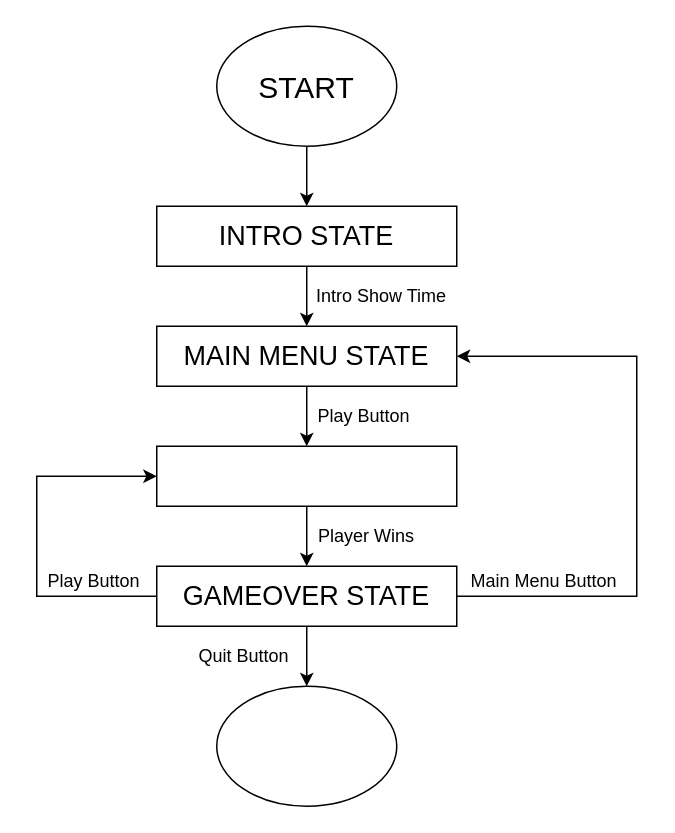
Some shapes in this 675 by 833 pixel diagram are drawn without their labels. The box of each missing label's shape, as (x1, y1, x2, y2) in pixels:
END: (215, 685, 397, 806)
GAME STATE: (155, 445, 457, 506)
